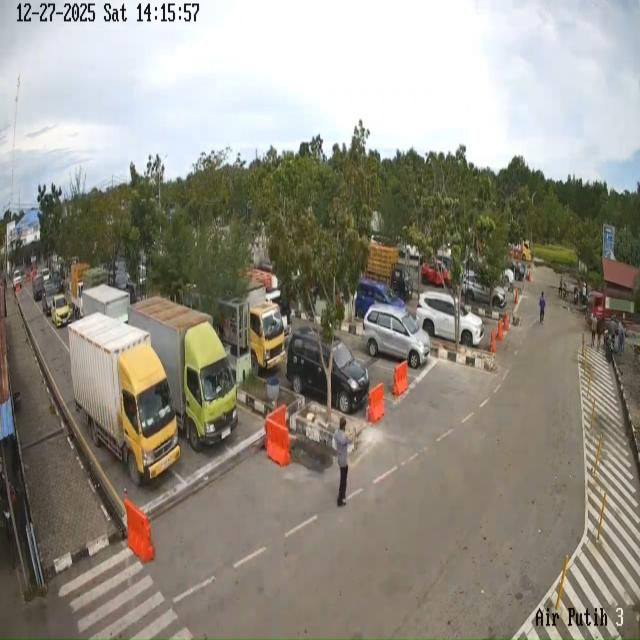Golongan IVA: (286, 326, 370, 414), (362, 305, 430, 369), (416, 291, 484, 347), (354, 278, 406, 319), (463, 271, 506, 308), (51, 294, 71, 328), (42, 280, 59, 316), (32, 274, 45, 302), (12, 269, 22, 290), (41, 267, 50, 282)
Golongan VB: (68, 313, 180, 486), (128, 296, 238, 452), (82, 284, 130, 323)
